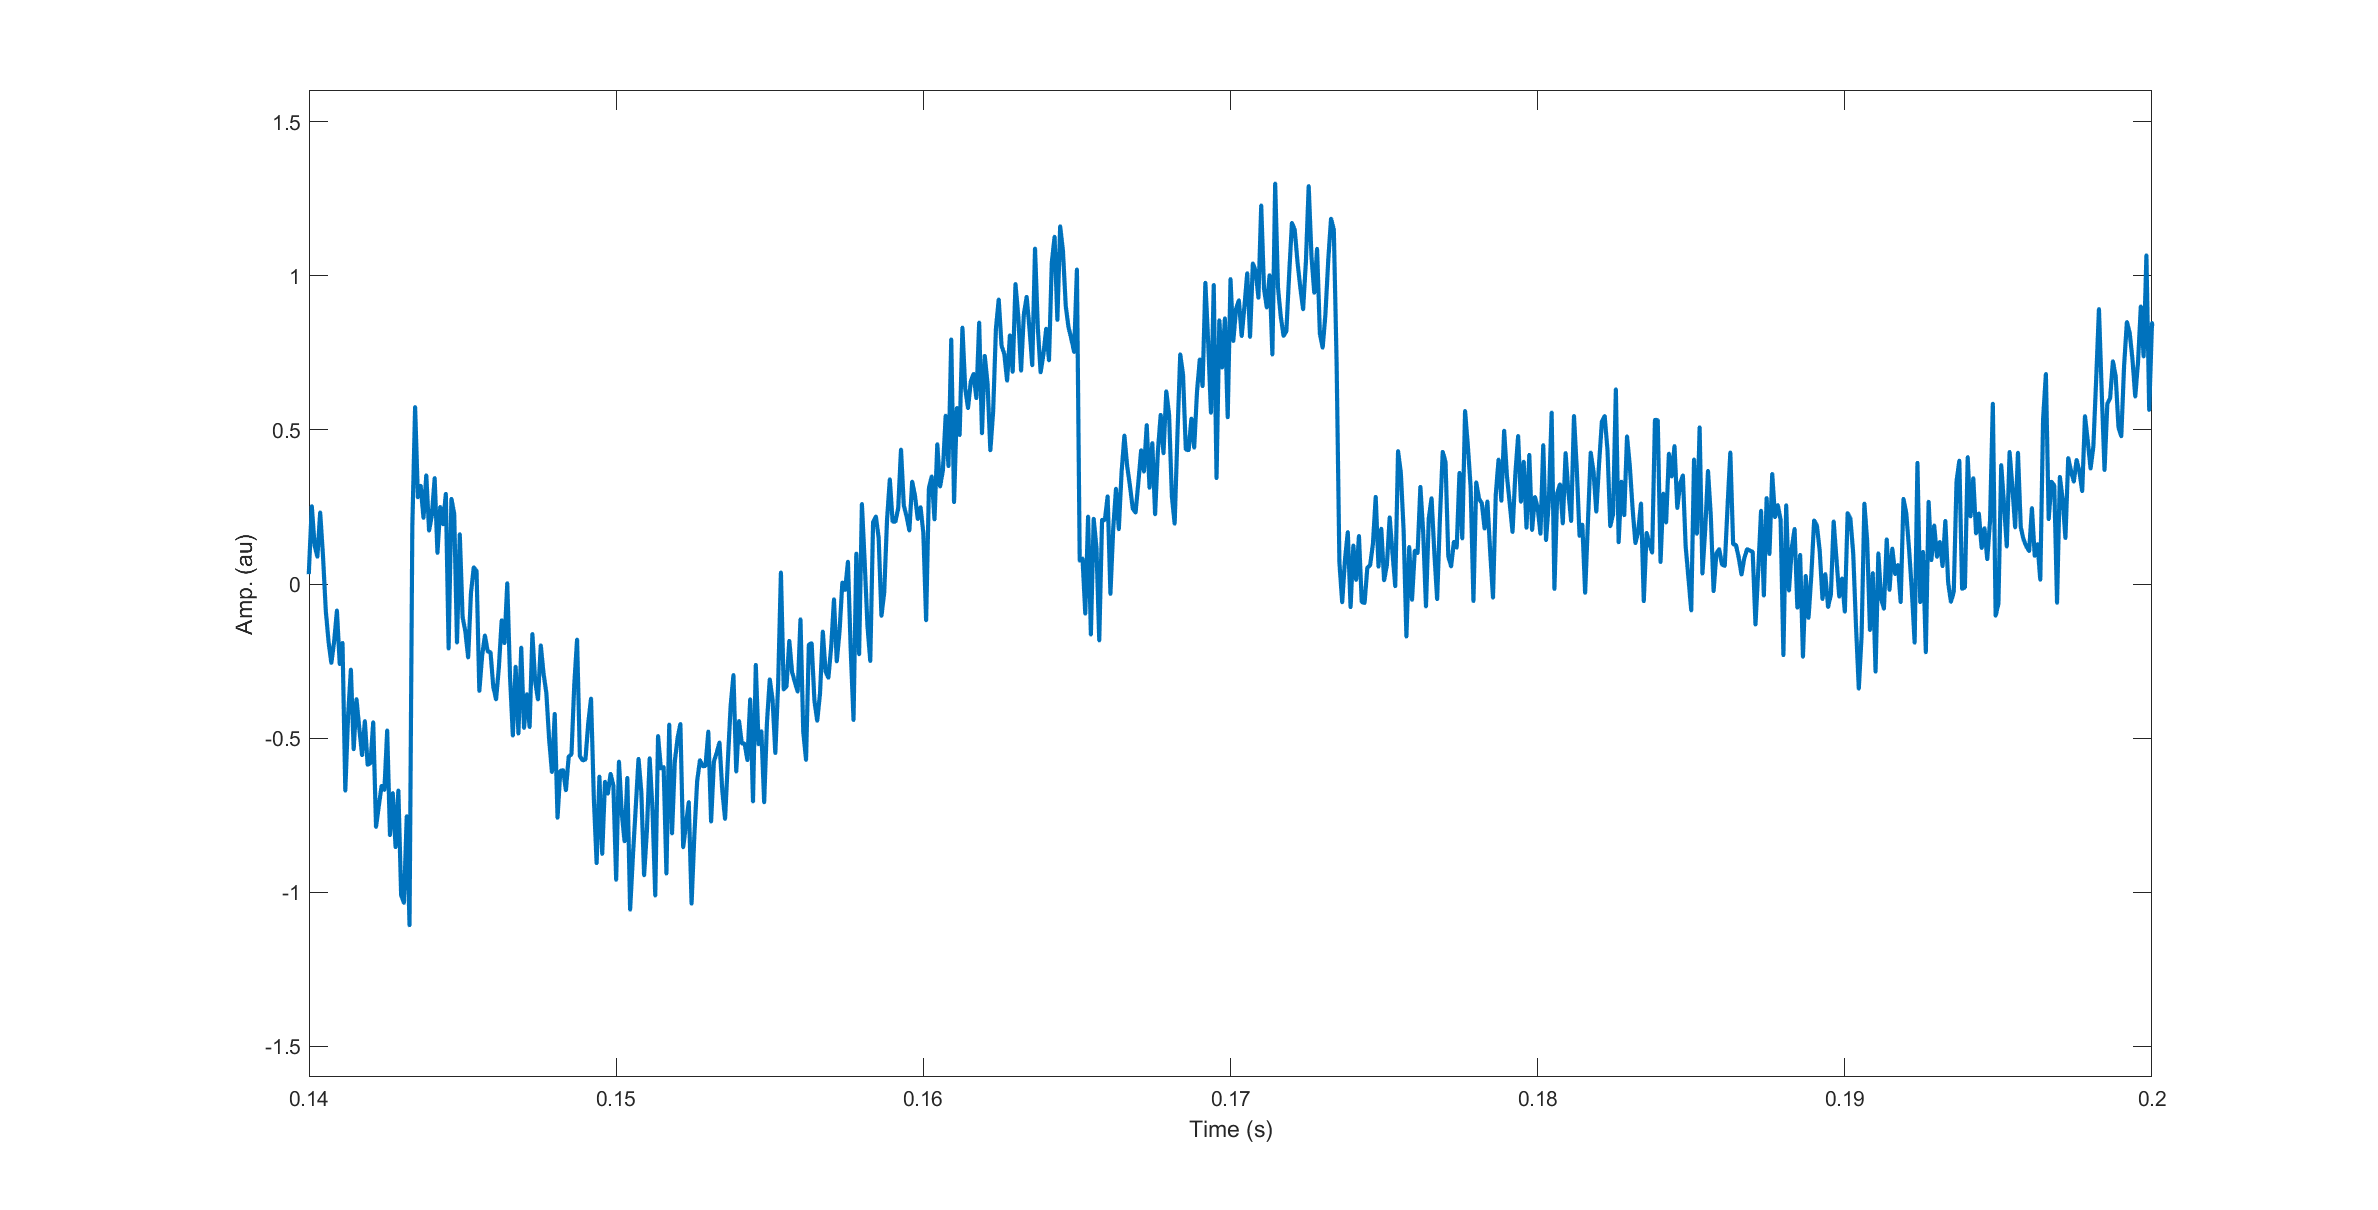negative_fringe: (398, 380, 559, 901)
positive_fringe: (1108, 164, 1350, 603), (870, 211, 1089, 608)
